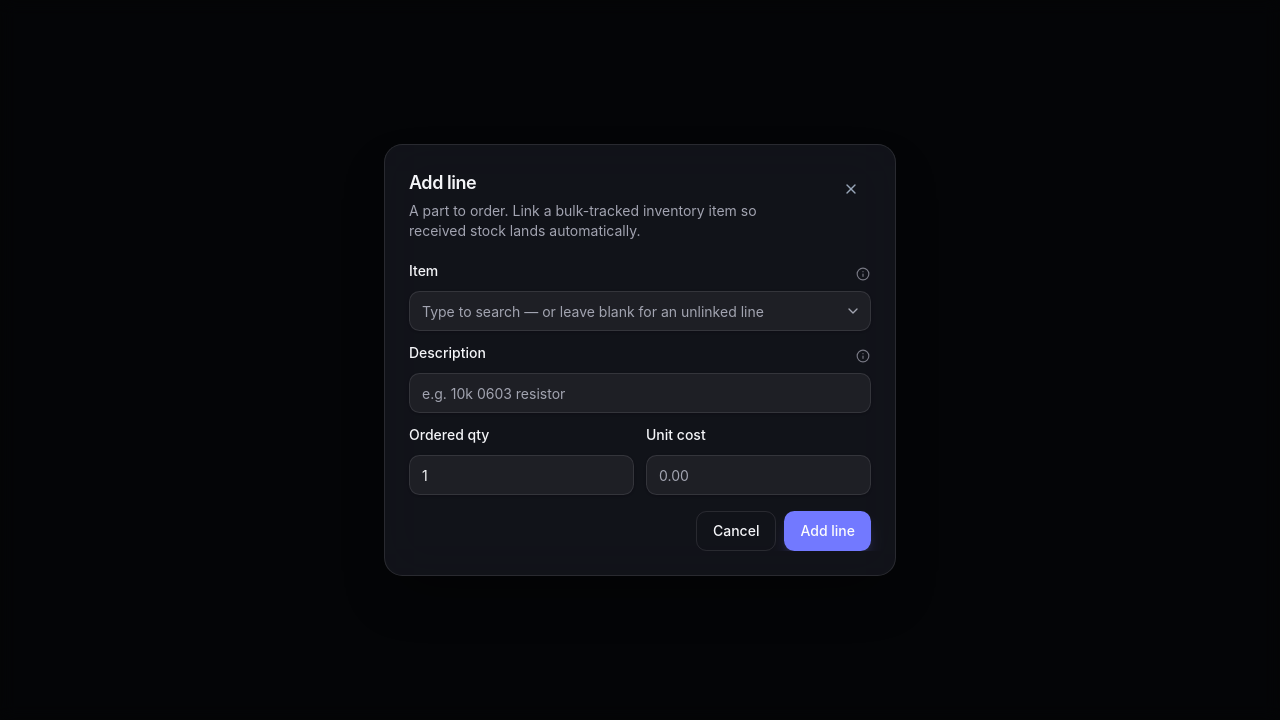
Scenario: PurchaseOrderLineDialog — quantity price breaks (issue #37) › renders the break tiers and jumps the quantity when one is clicked
Click the dropdown labelled "Item" at (640, 311), box [409,291,871,331]
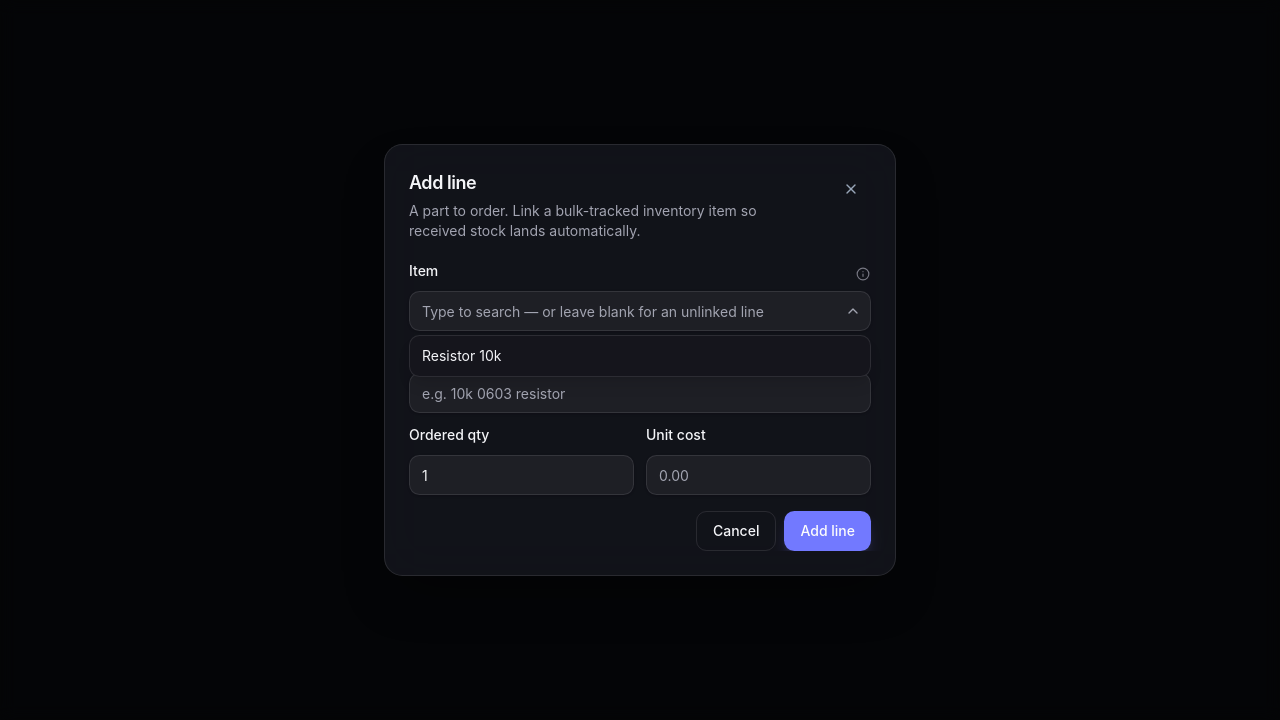
Press the mouse on the option "Resistor 10k" at (462, 356), box [422,347,501,364]
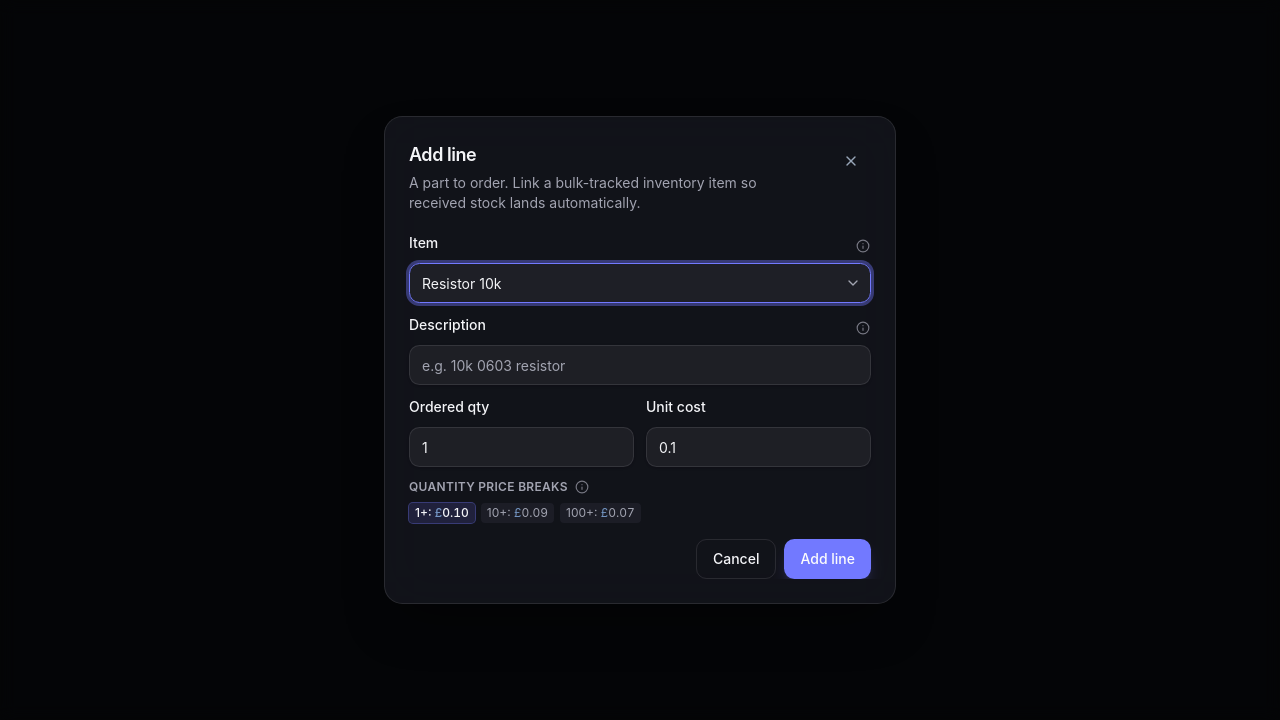
Check: the element with test id "po-line-price-breaks" is shown, box [409,479,641,523]
Check: the number of buttons with test id "po-line-price-break" is 3
Click the button named "Order 100 or more" at (600, 513), box [560,503,641,523]
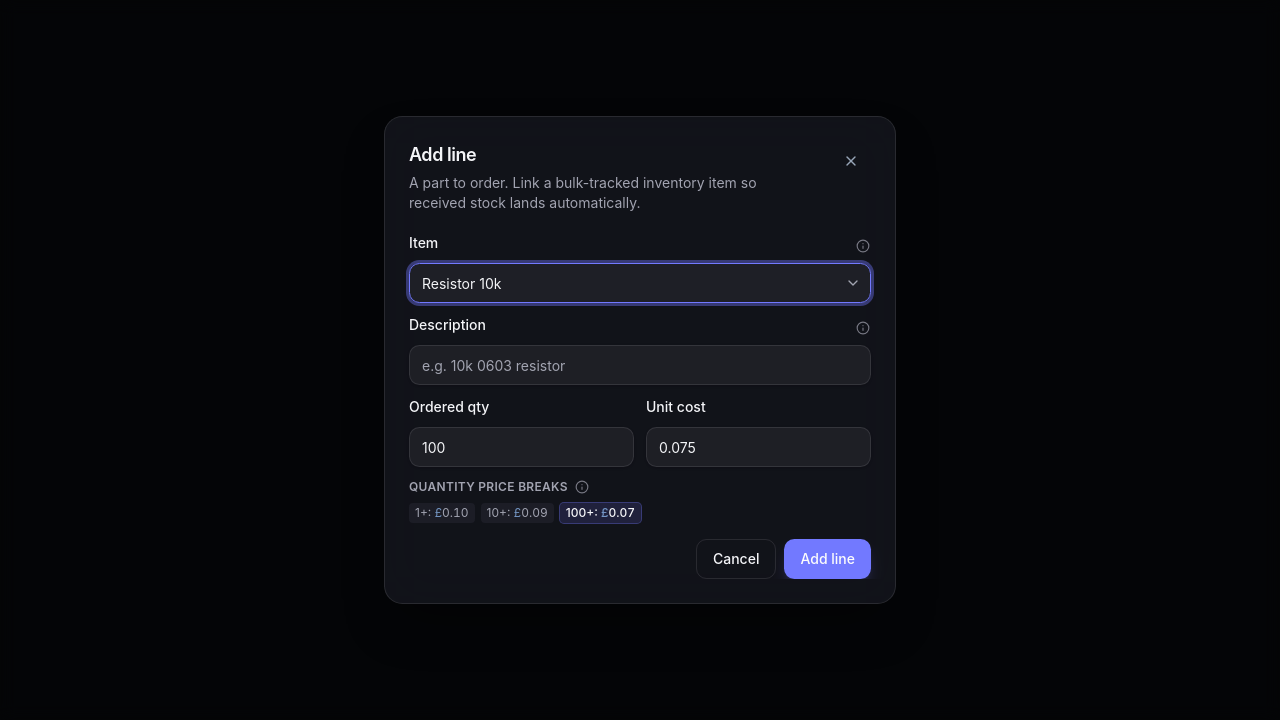
Check: the field with test id "po-line-qty" holds "100", box [409,427,634,467]
Check: the field with test id "po-line-cost" holds "0.075", box [646,427,871,467]
